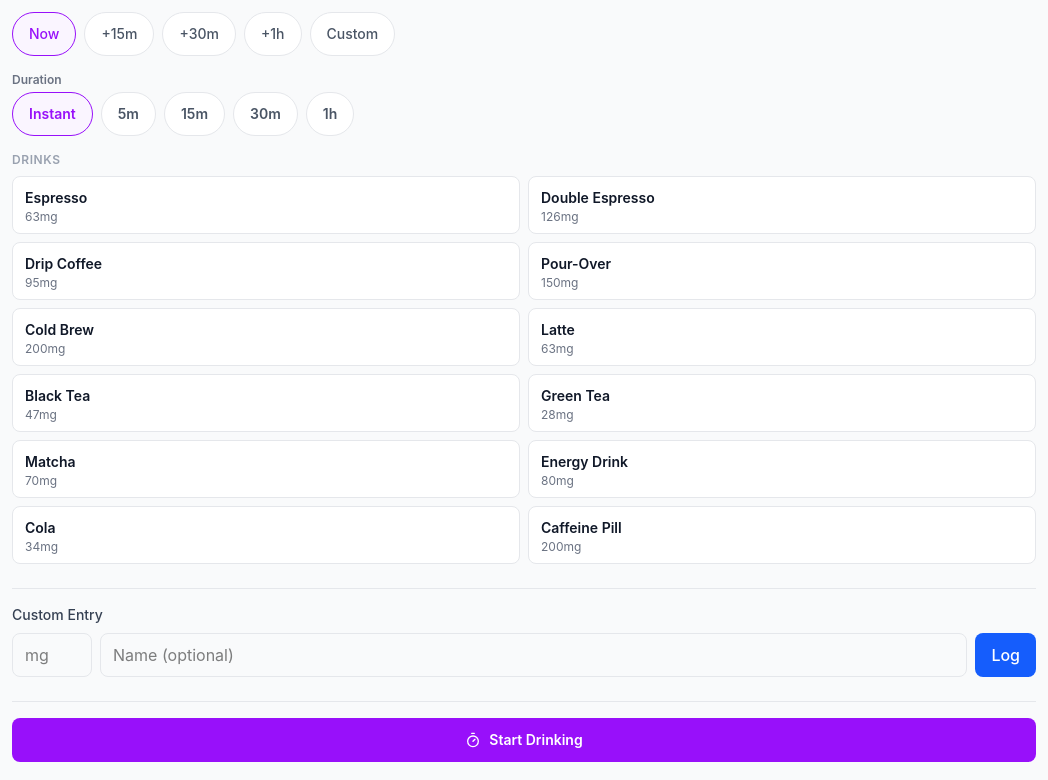
Test case: DrinkLogger › Custom chip reveals datetime-local input
The width and height of the screenshot is (1048, 780).
// Click Custom chip
Click the button "Custom". click: (352, 34)
box: 310,12 -> 395,56
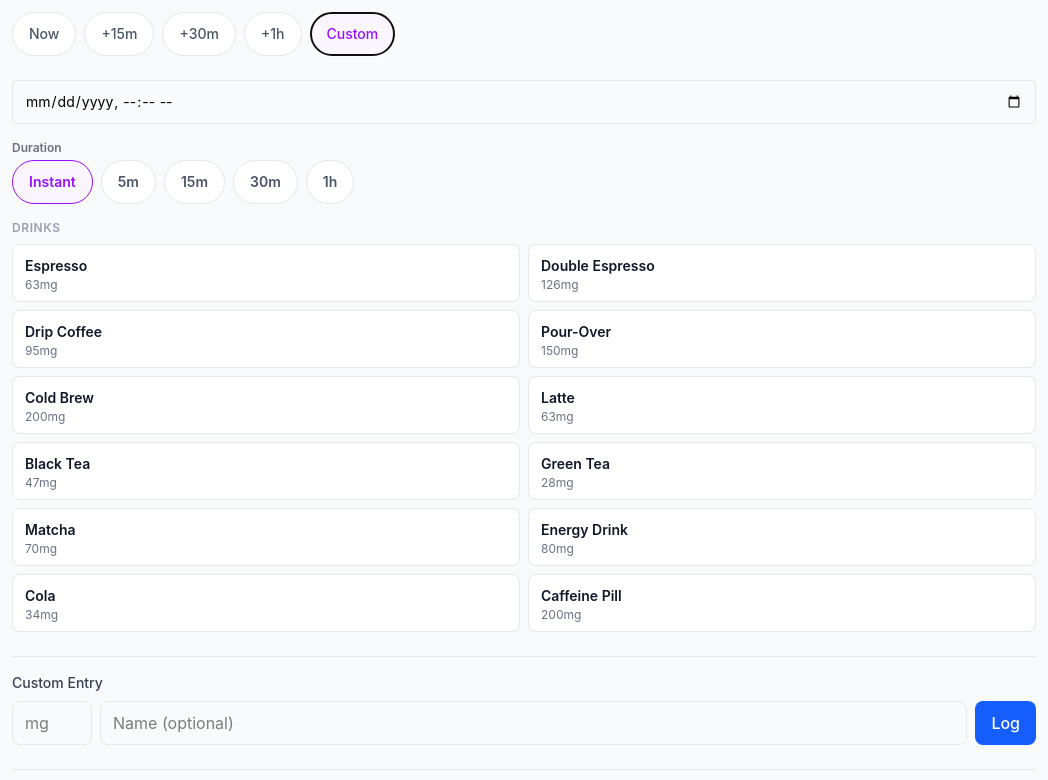
Expected: the 1st field is shown, 12,80 -> 1036,124
